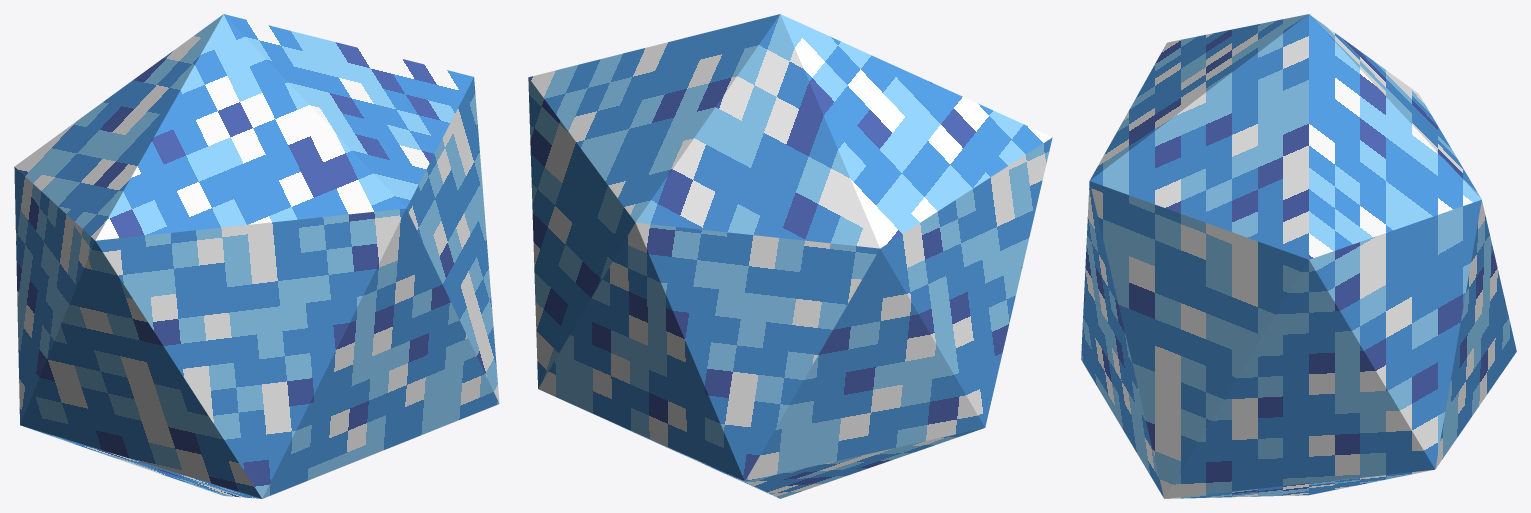
The model's file is r05_bloco_gelo_eterno.glb.
3 renders of one model, left to right at view 1: azimuth 30°, elevation 25°; view 2: azimuth 150°, elevation 25°; view 3: azimuth 270°, elevation 25°, orthographic.
Parts seen in each view (by area): view 1: r05_bloco_gelo_eterno; view 2: r05_bloco_gelo_eterno; view 3: r05_bloco_gelo_eterno.
Part boxes in pixels (box(x1,y1,x2,y2)): r05_bloco_gelo_eterno: box(14, 14, 499, 498); r05_bloco_gelo_eterno: box(528, 14, 1052, 498); r05_bloco_gelo_eterno: box(1081, 14, 1516, 498).
Size of the model in its own units: 1.27 by 1.29 by 1.06.
Materials: 1 (1 with a texture image).
